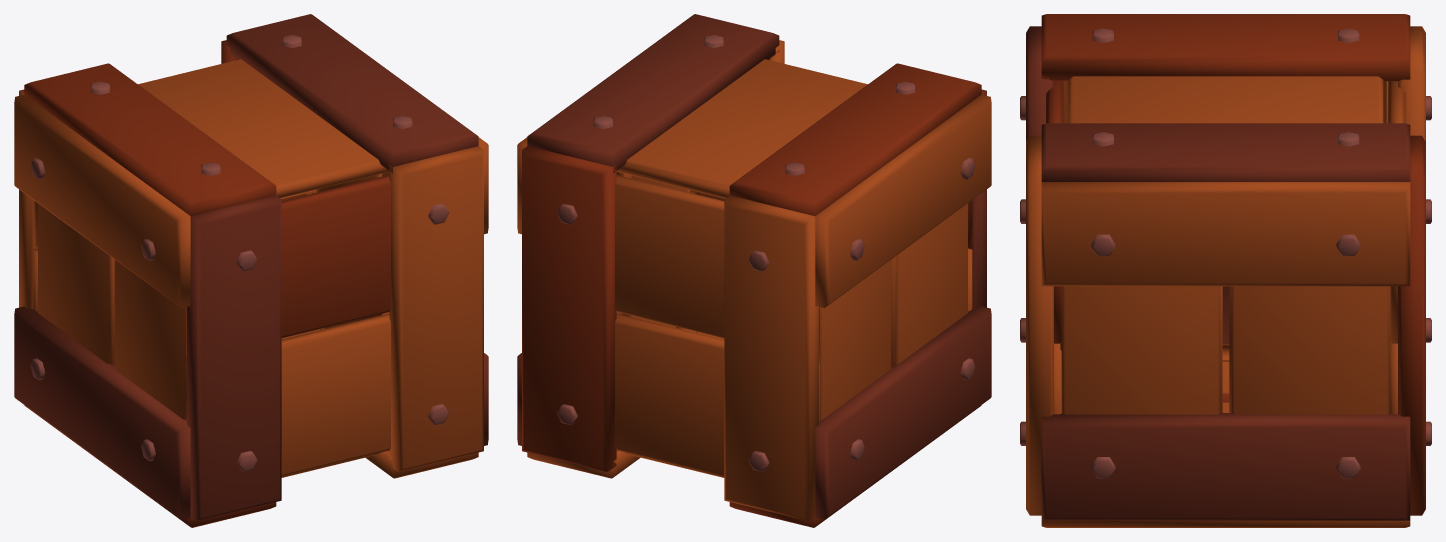
3 renders of one model, left to right at view 1: azimuth 30°, elevation 25°; view 2: azimuth 150°, elevation 25°; view 3: azimuth 270°, elevation 25°, orthographic. The views are drawn at different scales.
Parts seen in each view (by area): view 1: Vert.056; view 2: Vert.056; view 3: Vert.056.
Boxes of the visible parts, left/top/right/bottom form: Vert.056: left=14, top=14, right=488, bottom=527; Vert.056: left=517, top=14, right=991, bottom=527; Vert.056: left=1020, top=14, right=1431, bottom=527.
Bounding box in the file's own units: 103 × 103 × 103.
